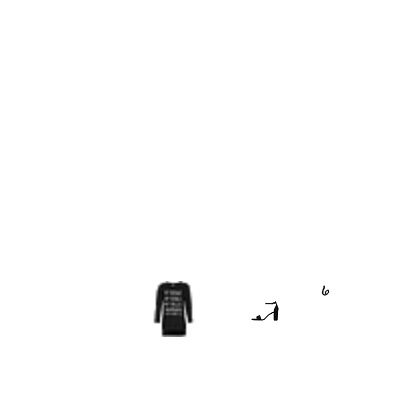4: (202, 56, 216, 70)
5: (251, 77, 307, 133), (280, 195, 308, 223)
Bag: (286, 298, 342, 354)
Pullover: (231, 142, 273, 184)
Shirt: (322, 29, 378, 85)
